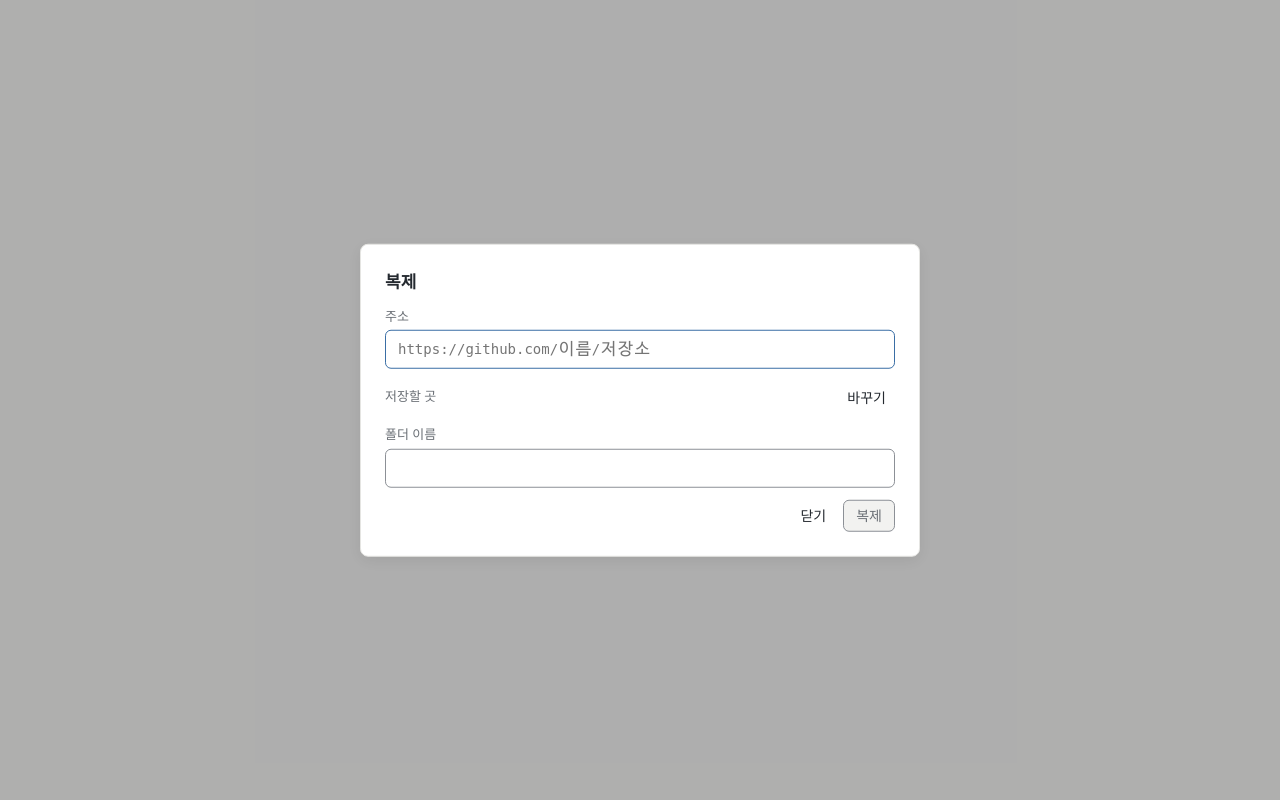
CloneDialog › Git이 오래됐으면 확인해야 복제할 수 있다
In the field labelled "주소": (640, 349) [385, 330, 895, 369], type "https://github.com/octo/hello"
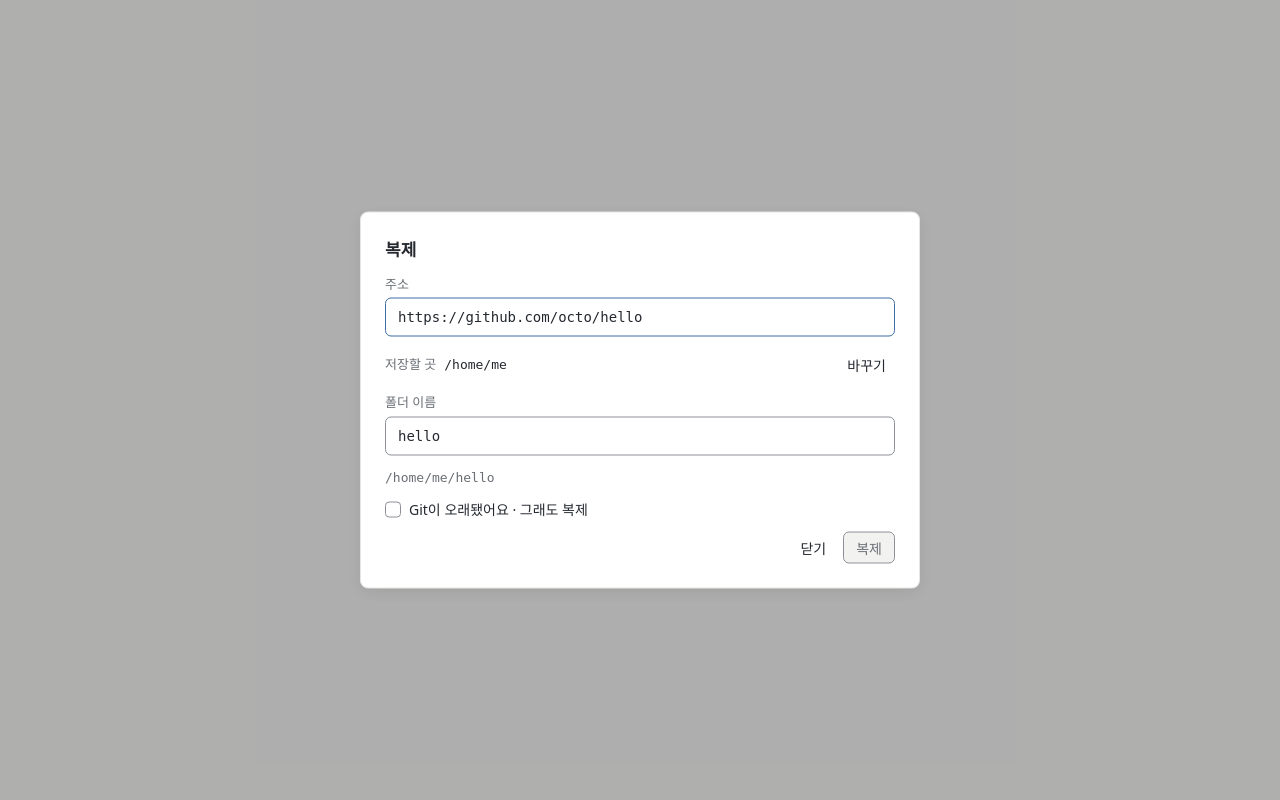
Expected: the button "복제" is disabled, [843, 532, 895, 564]
Click the checkbox labelled "Git이 오래됐어요 · 그래도 복제": click(393, 509) [385, 501, 401, 517]
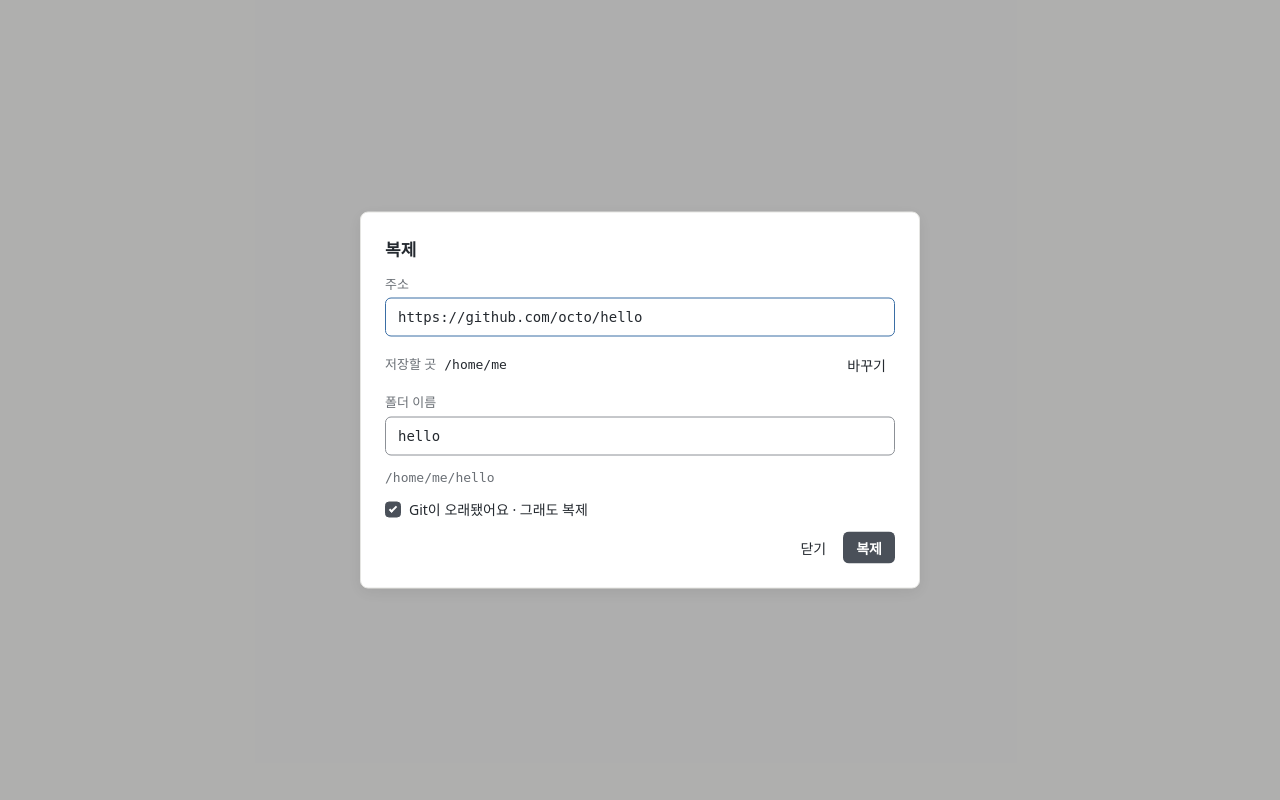
Expected: the button "복제" is enabled, [843, 532, 895, 564]
